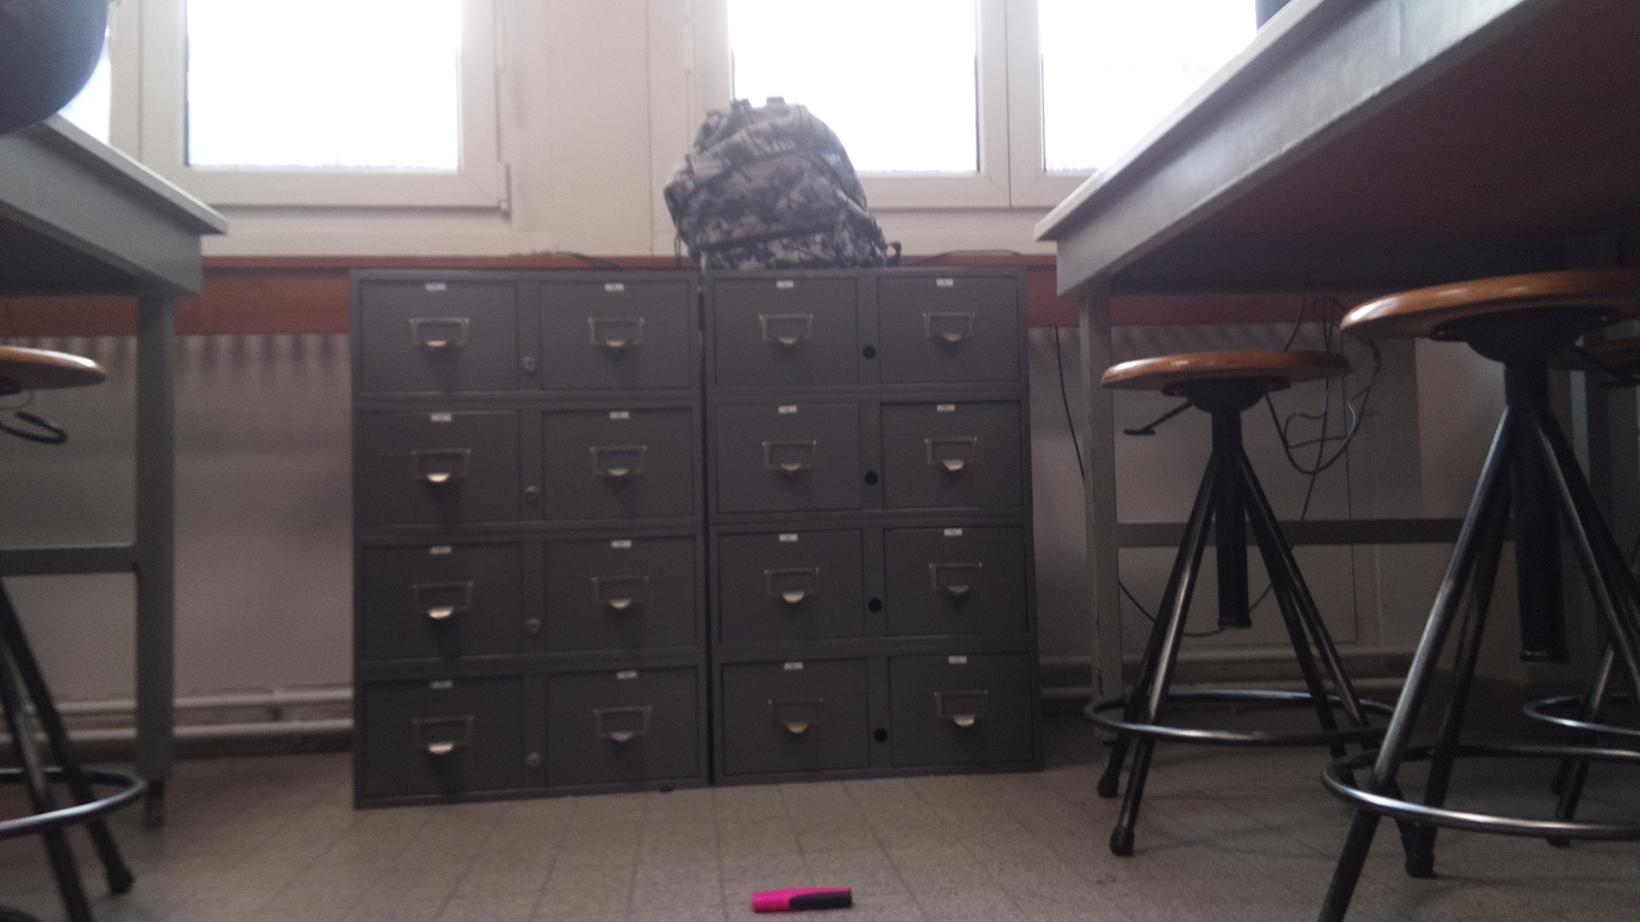big: (670, 98, 891, 268)
small: (746, 881, 861, 915)
